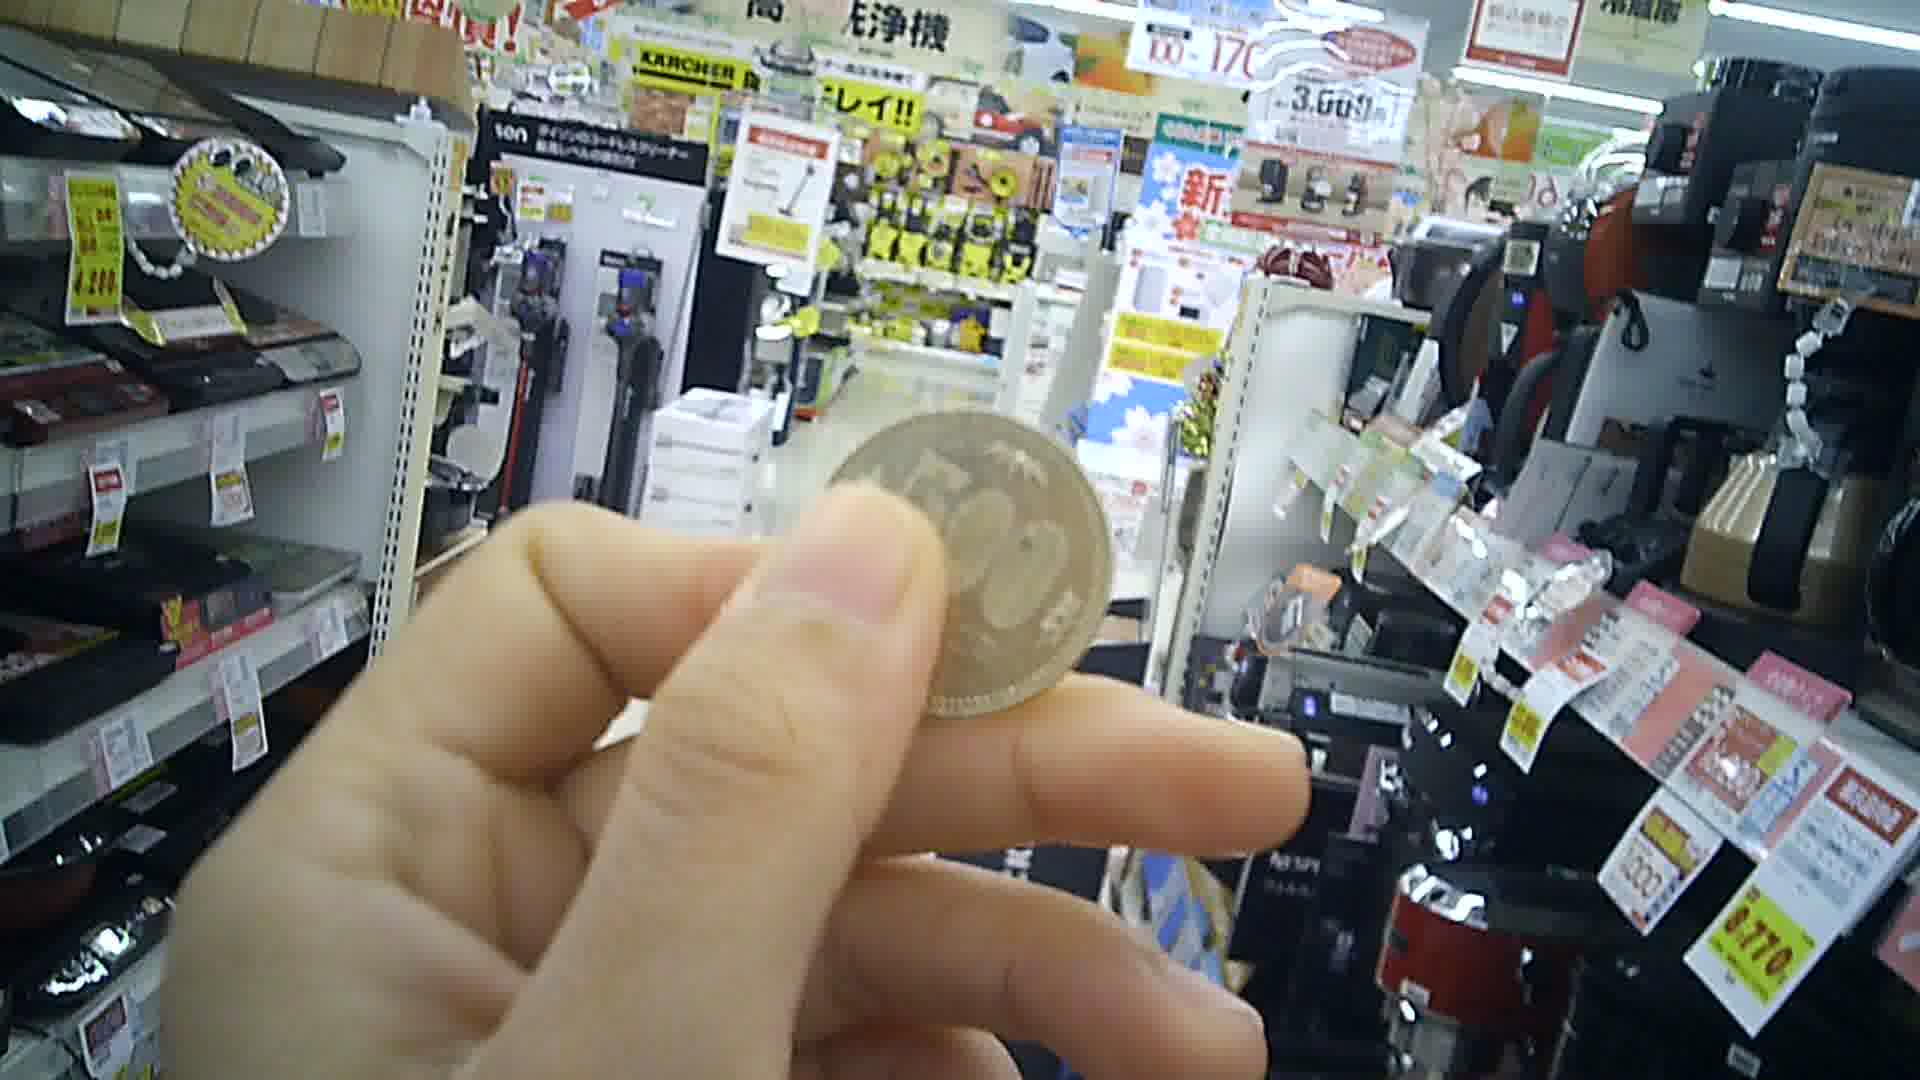500 Yen: (795, 397, 1124, 727)
